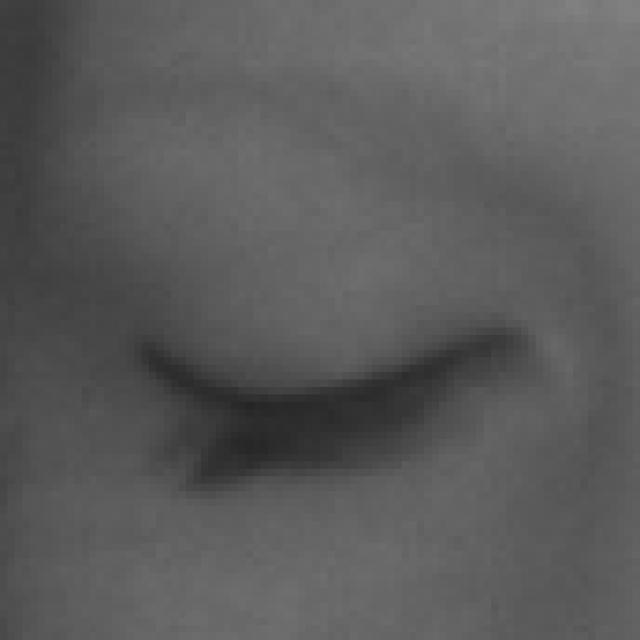Eyeclosed: (121, 202, 536, 602)
